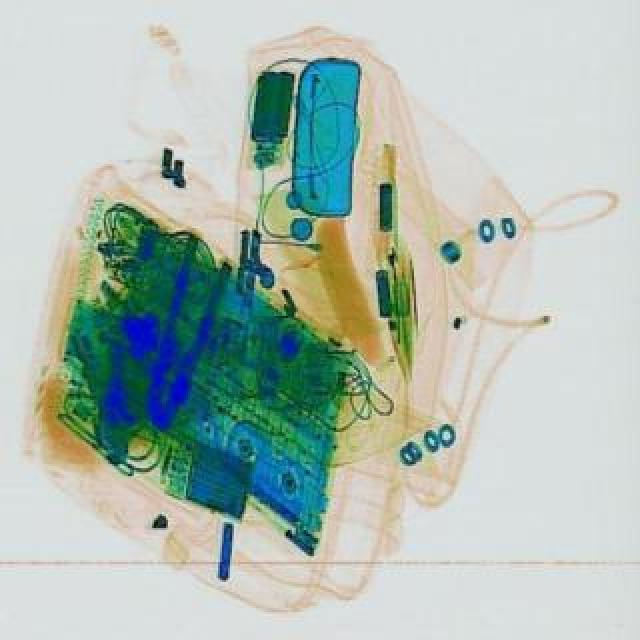wrench: (132, 238, 240, 438)
